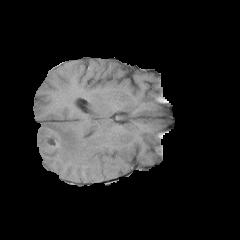glioma: (38, 122, 121, 181)
